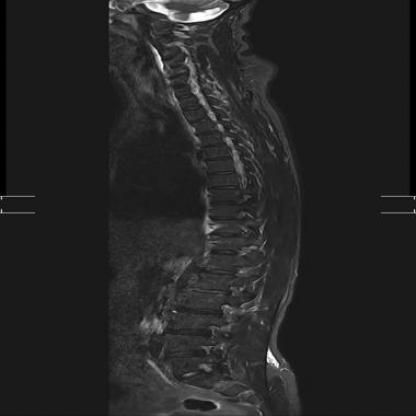Annular Tearrotation: (161, 343, 205, 358)
Disc Bulgerotation: (173, 303, 223, 320), (163, 324, 213, 339), (162, 343, 206, 358)
Disc Protrusionrotation: (186, 282, 227, 298), (162, 48, 183, 63)
